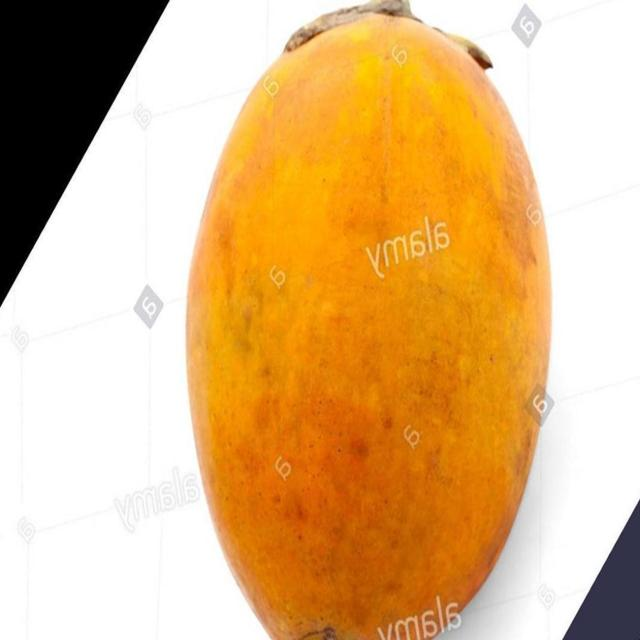good: (184, 10, 553, 639)
